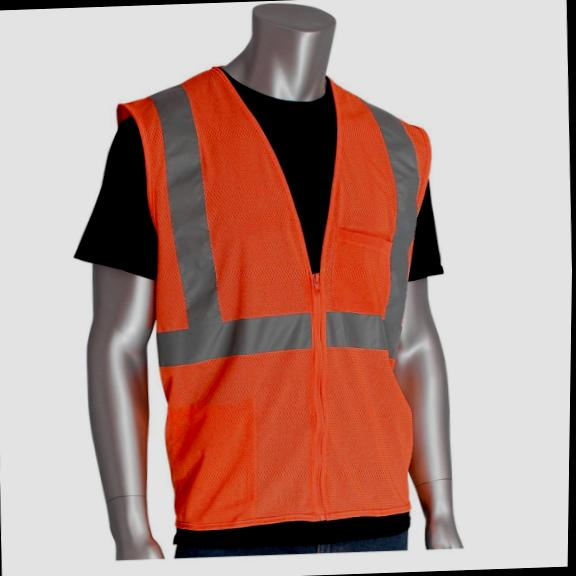safety_vest: (104, 60, 447, 536)
